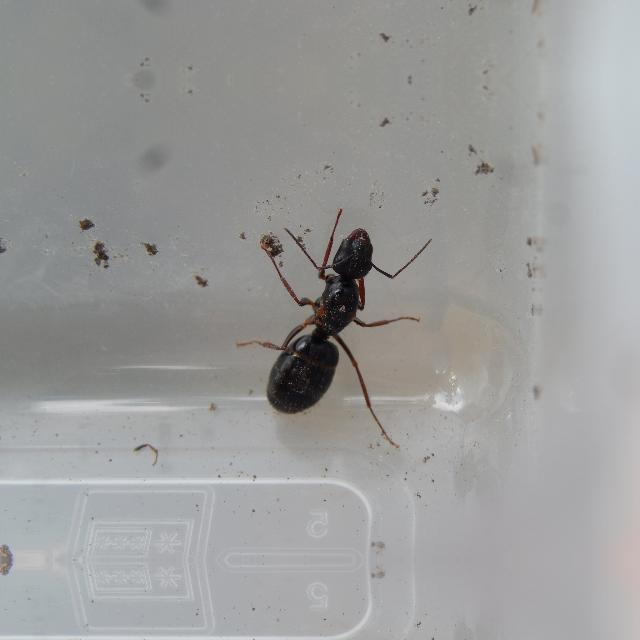Camponotus: (236, 215, 417, 431)
